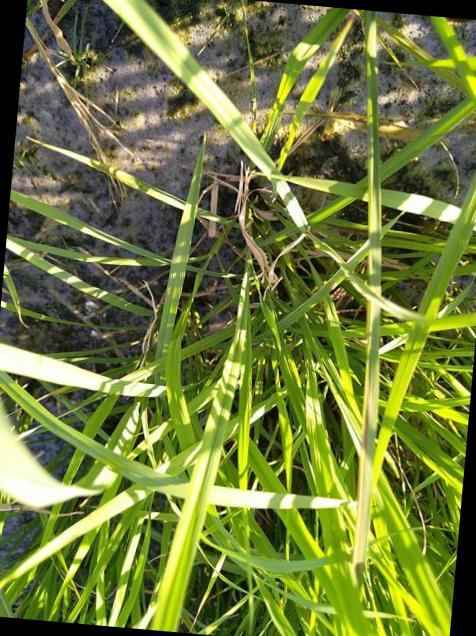Leaf Streak: (350, 303, 385, 564)
